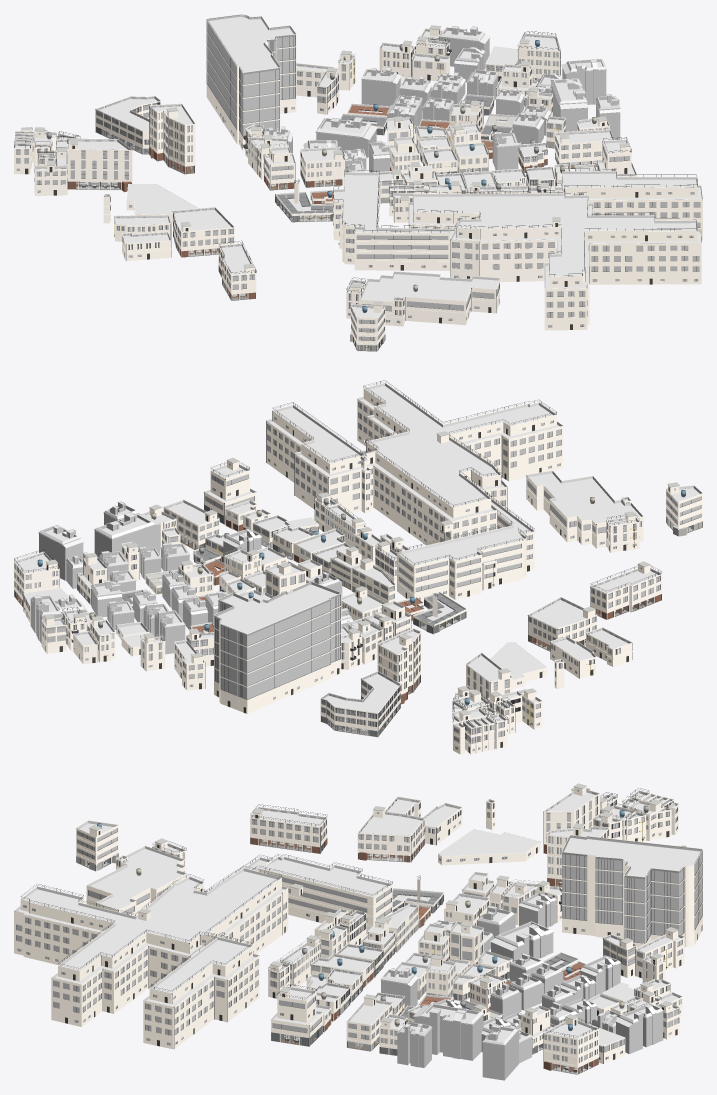
The picture shows the model from 3 angles, top to bottom: view 1: azimuth 30°, elevation 25°; view 2: azimuth 150°, elevation 25°; view 3: azimuth 270°, elevation 25°; orthographic projection. The views are drawn at different scales.
Visible parts, largest first — view 1: 체육관, 서울특별시 성동구 성수동2가 301-27.014, 서울특별시 성동구 성수동1가 19-1.004, 서울경동유치원, 서울특별시 성동구 성수동1가 22-25, 서울특별시 성동구 성수동1가 16-9, 서울특별시 성동구 성수동1가 16-8.001, 서울특별시 성동구 성수동1가 22-24, 서울특별시 성동구 성수동1가 22-28, 서울특별시 성동구 성수동2가 301-87.001, 서울특별시 성동구 성수동2가 301-69, 서울특별시 성동구 성수동1가 22-34 (+40 smaller); view 2: 체육관, 서울특별시 성동구 성수동2가 301-27.014, 서울특별시 성동구 성수동1가 19-1.004, 서울경동유치원, 서울특별시 성동구 성수동1가 16-8.001, 서울특별시 성동구 성수동1가 22-28, 서울특별시 성동구 성수동1가 22-24, 서울특별시 성동구 성수동1가 16-9, 서울특별시 성동구 성수동2가 301-85.001, 서울특별시 성동구 성수동1가 16-26, 서울특별시 성동구 성수동2가 301-27.043, 서울특별시 성동구 성수동2가 301-87.001 (+36 smaller); view 3: 체육관, 서울특별시 성동구 성수동2가 301-27.014, 서울특별시 성동구 성수동1가 19-1.004, 서울경동유치원, 서울특별시 성동구 성수동1가 22-28, 서울특별시 성동구 성수동1가 22-24, 서울특별시 성동구 성수동2가 301-85.001, 서울특별시 성동구 성수동1가 22-34, 서울특별시 성동구 성수동2가 301-27.043, 서울특별시 성동구 성수동1가 16-26, 서울특별시 성동구 성수동1가 22-25, 서울특별시 성동구 성수동2가 301-24 (+50 smaller).
Part boxes in pixels (<box>): 체육관: <box>408,168,702,330</box>; 서울특별시 성동구 성수동2가 301-27.014: <box>206,14,296,150</box>; 서울특별시 성동구 성수동1가 19-1.004: <box>333,169,455,270</box>; 서울경동유치원: <box>359,271,500,325</box>; 서울특별시 성동구 성수동1가 22-25: <box>67,138,132,192</box>; 서울특별시 성동구 성수동1가 16-9: <box>149,103,195,174</box>; 서울특별시 성동구 성수동1가 16-8.001: <box>95,95,160,154</box>; 서울특별시 성동구 성수동1가 22-24: <box>172,207,234,257</box>; 서울특별시 성동구 성수동1가 22-28: <box>218,240,256,300</box>; 서울특별시 성동구 성수동2가 301-87.001: <box>554,129,613,168</box>; 서울특별시 성동구 성수동2가 301-69: <box>300,146,345,187</box>; 서울특별시 성동구 성수동1가 22-34: <box>126,184,198,223</box>; 체육관: <box>266,380,563,545</box>; 서울특별시 성동구 성수동2가 301-27.014: <box>214,581,341,713</box>; 서울특별시 성동구 성수동1가 19-1.004: <box>397,493,534,602</box>; 서울경동유치원: <box>526,470,643,548</box>; 서울특별시 성동구 성수동1가 16-8.001: <box>320,671,400,737</box>; 서울특별시 성동구 성수동1가 22-28: <box>590,565,662,619</box>; 서울특별시 성동구 성수동1가 22-24: <box>527,597,597,651</box>; 서울특별시 성동구 성수동1가 16-9: <box>377,628,420,704</box>; 서울특별시 성동구 성수동2가 301-85.001: <box>94,512,161,557</box>; 서울특별시 성동구 성수동1가 16-26: <box>204,462,256,524</box>; 서울특별시 성동구 성수동2가 301-27.043: <box>14,549,60,607</box>; 서울특별시 성동구 성수동2가 301-87.001: <box>163,499,219,549</box>; 체육관: <box>14,865,288,1049</box>; 서울특별시 성동구 성수동2가 301-27.014: <box>562,835,702,947</box>; 서울특별시 성동구 성수동1가 19-1.004: <box>210,854,392,934</box>; 서울경동유치원: <box>86,845,186,916</box>; 서울특별시 성동구 성수동1가 22-28: <box>250,804,327,853</box>; 서울특별시 성동구 성수동1가 22-24: <box>357,811,424,862</box>; 서울특별시 성동구 성수동2가 301-85.001: <box>413,1003,483,1060</box>; 서울특별시 성동구 성수동1가 22-34: <box>438,829,540,865</box>; 서울특별시 성동구 성수동2가 301-27.043: <box>543,1018,598,1074</box>; 서울특별시 성동구 성수동1가 16-26: <box>270,983,322,1046</box>; 서울특별시 성동구 성수동1가 22-25: <box>543,789,599,853</box>; 서울특별시 성동구 성수동2가 301-24: <box>490,921,554,961</box>.
Bounding box in the file's own units: 212 × 29.85 × 231.
